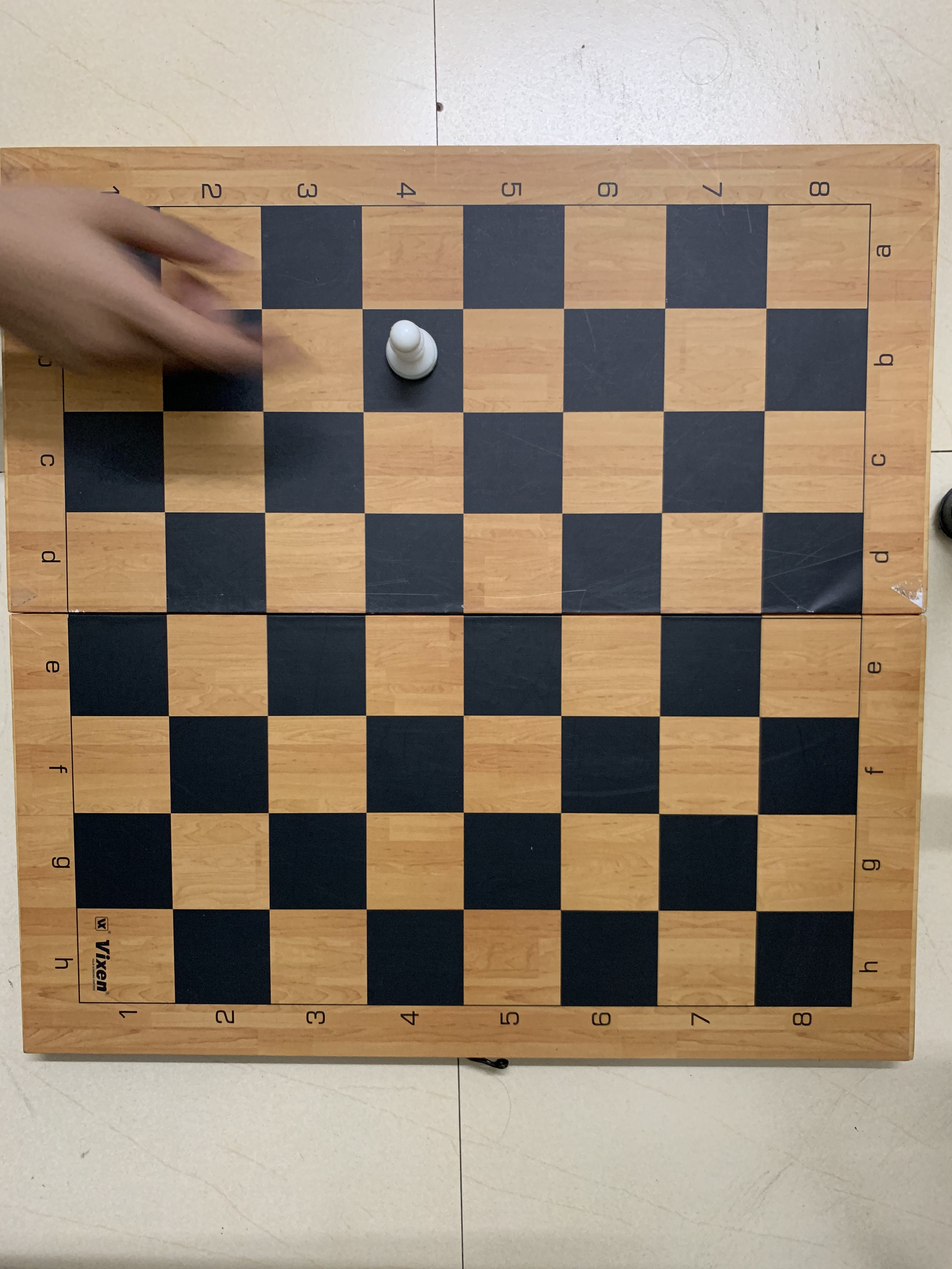white_pawn: (361, 304, 461, 412)
